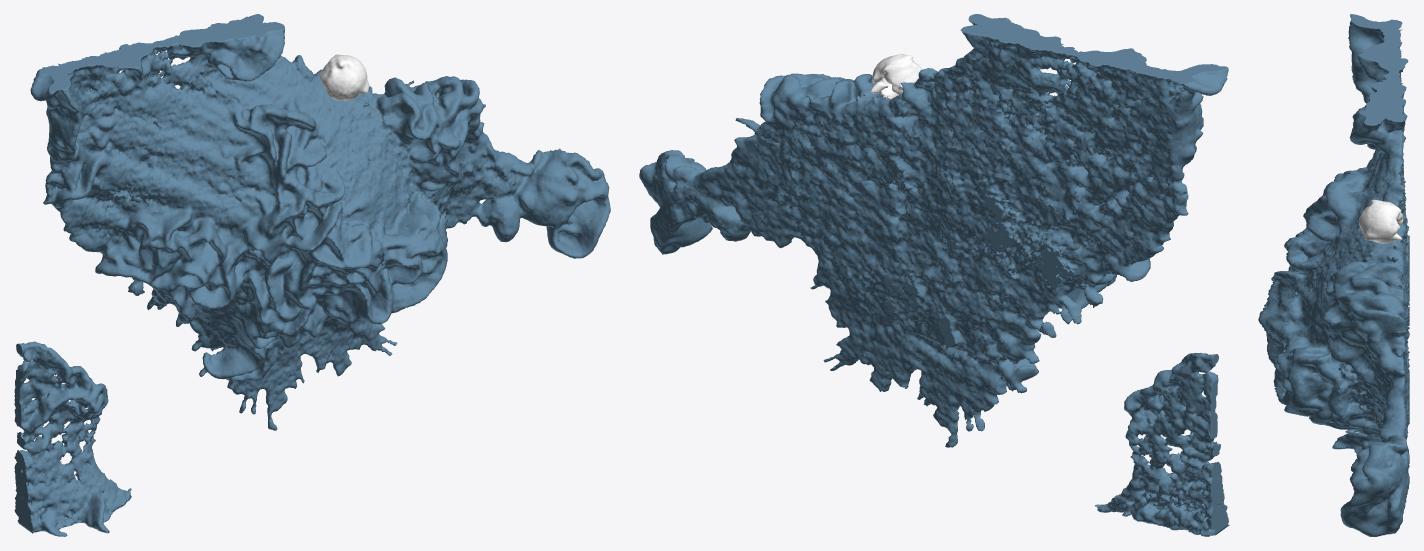
3 views of the same model, side by side, from view 1: azimuth 30°, elevation 25°; view 2: azimuth 150°, elevation 25°; view 3: azimuth 270°, elevation 25° (orthographic). The views are drawn at different scales.
Parts seen in each view (by area): view 1: surface (×2); view 2: surface (×2); view 3: surface (×2).
Part boxes in pixels (box(x1,y1,x2,y2)): surface (×2): box(14, 14, 610, 536); surface (×2): box(639, 14, 1229, 536); surface (×2): box(1258, 14, 1409, 536).
Bounding box in the file's own units: 592 × 436 × 145.
